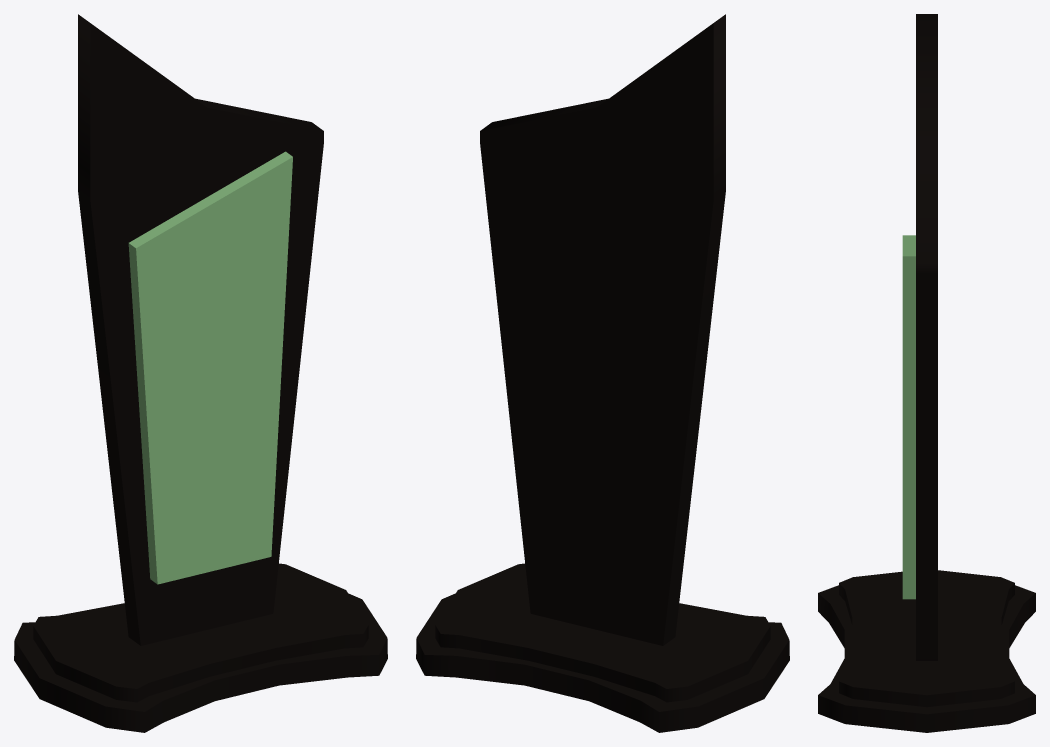
The model's file is Trofeu.fbx.
3 views of the same model, side by side, from view 1: azimuth 30°, elevation 25°; view 2: azimuth 150°, elevation 25°; view 3: azimuth 270°, elevation 25° (orthographic). The views are drawn at different scales.
Parts seen in each view (by area): view 1: Trofeu; view 2: Trofeu; view 3: Trofeu.
Part boxes in pixels (bbox=[...]): Trofeu: bbox=[14, 14, 387, 732]; Trofeu: bbox=[416, 14, 789, 732]; Trofeu: bbox=[818, 14, 1035, 732].
Size of the model in its own units: 104 by 206 by 68.04.
